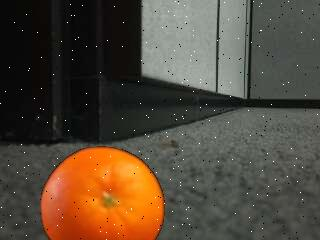Orange: (42, 147, 170, 239)
